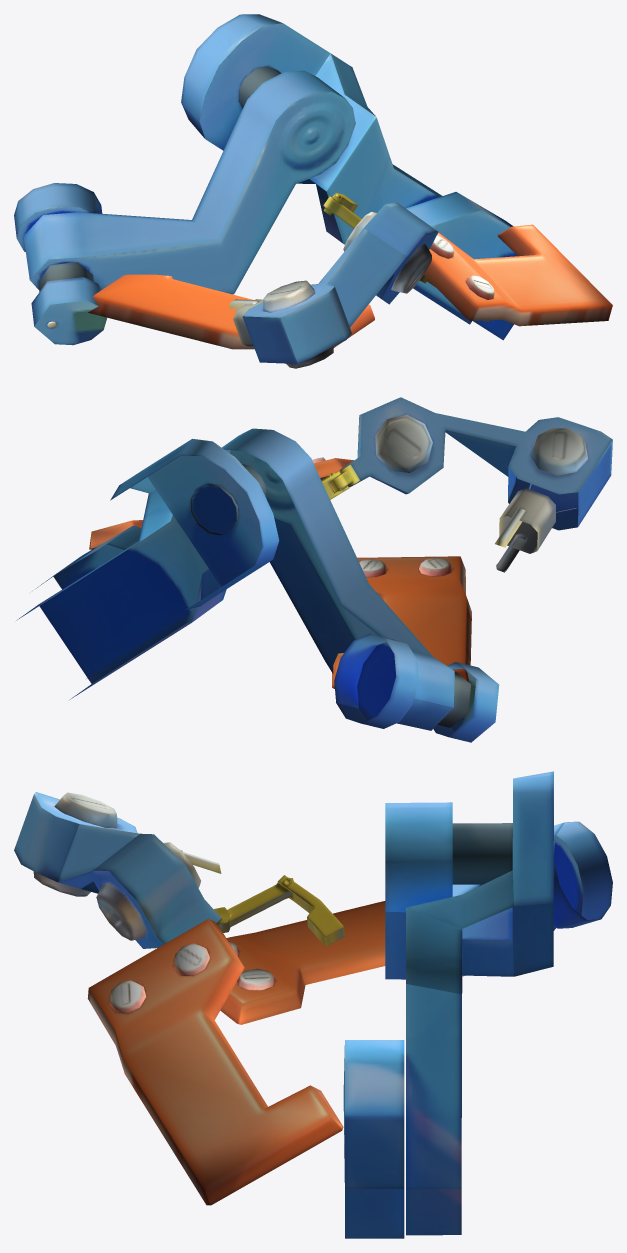
The model's file is Cty_Bld_RepairShopBreak01_Mod.fbx.
The picture shows the model from 3 angles, top to bottom: view 1: azimuth 30°, elevation 25°; view 2: azimuth 150°, elevation 25°; view 3: azimuth 270°, elevation 25°; orthographic projection. The views are drawn at different scales.
Visible parts, largest first — view 1: Cty_Bld_RepairShop01_Mod; view 2: Cty_Bld_RepairShop01_Mod; view 3: Cty_Bld_RepairShop01_Mod.
Part boxes in pixels (<box>): Cty_Bld_RepairShop01_Mod: <box>14,14,612,368</box>; Cty_Bld_RepairShop01_Mod: <box>16,397,612,742</box>; Cty_Bld_RepairShop01_Mod: <box>14,771,612,1238</box>.
Bounding box in the file's own units: 759 × 467 × 698.
